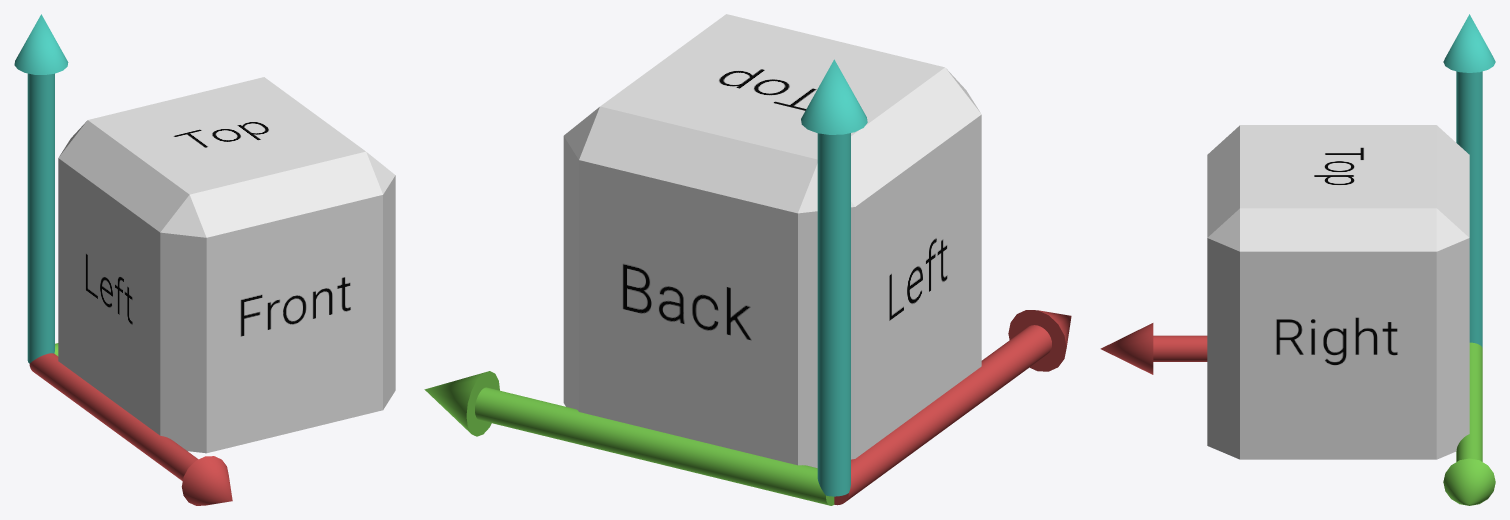
Rendered from orientation_cube_v01.glb.
The picture shows the model from 3 angles, left to right: view 1: azimuth 30°, elevation 25°; view 2: azimuth 150°, elevation 25°; view 3: azimuth 270°, elevation 25°; orthographic projection. The views are drawn at different scales.
Parts seen in each view (by area): view 1: Cube.006, Cube.011, Cube.001, Cube.008, Cube.005, Cylinder, Cube.010, Cylinder.001, Cube.007, Cone.001, Cone, Cube.009 (+1 smaller); view 2: Cube.015, Cube.011, Cube.001, Cube.014, Cylinder, Cylinder.002, Cube.010, Cylinder.001, Cube.017, Cube.013, Cone, Cone.002 (+2 smaller); view 3: Cube.003, Cube.001, Cube.002, Cube.013, Cube.007, Cylinder, Cube.014, Cube.005, Cone.002, Cylinder.002, Cone, Cylinder.001 (+3 smaller).
Part boxes in pixels (left/top/right/bottom): Cube.006: left=206, top=195, right=382, bottom=452; Cube.011: left=58, top=158, right=160, bottom=435; Cube.001: left=88, top=77, right=365, bottom=194; Cube.008: left=160, top=232, right=206, bottom=453; Cube.005: left=190, top=151, right=382, bottom=237; Cylinder: left=27, top=73, right=54, bottom=363; Cube.010: left=58, top=120, right=189, bottom=232; Cylinder.001: left=29, top=353, right=198, bottom=480; Cube.007: left=383, top=175, right=395, bottom=409; Cone.001: left=181, top=456, right=232, bottom=505; Cone: left=14, top=14, right=68, bottom=74; Cube.009: left=160, top=195, right=206, bottom=237; Cube.015: left=579, top=160, right=797, bottom=465; Cube.011: left=855, top=115, right=981, bottom=458; Cube.001: left=600, top=14, right=944, bottom=159; Cube.014: left=579, top=106, right=817, bottom=213; Cylinder: left=817, top=133, right=850, bottom=496; Cylinder.002: left=475, top=387, right=834, bottom=505; Cube.010: left=851, top=67, right=981, bottom=206; Cylinder.001: left=834, top=325, right=1051, bottom=505; Cube.017: left=798, top=207, right=855, bottom=467; Cube.013: left=563, top=136, right=578, bottom=411; Cone: left=801, top=59, right=867, bottom=134; Cone.002: left=424, top=371, right=499, bottom=436; Cube.003: left=1240, top=251, right=1436, bottom=459; Cube.001: left=1240, top=125, right=1436, bottom=208; Cube.002: left=1240, top=208, right=1436, bottom=251; Cube.013: left=1436, top=238, right=1469, bottom=459; Cube.007: left=1207, top=238, right=1239, bottom=459; Cylinder: left=1456, top=71, right=1482, bottom=347; Cube.014: left=1436, top=125, right=1469, bottom=237; Cube.005: left=1207, top=125, right=1239, bottom=237; Cone.002: left=1443, top=458, right=1495, bottom=505; Cylinder.002: left=1456, top=342, right=1482, bottom=461; Cone: left=1443, top=14, right=1495, bottom=72; Cylinder.001: left=1153, top=335, right=1207, bottom=361.
Bounding box in the file's own units: 0.1505 × 0.1509 × 0.1508.
1 material, 1 textured.
